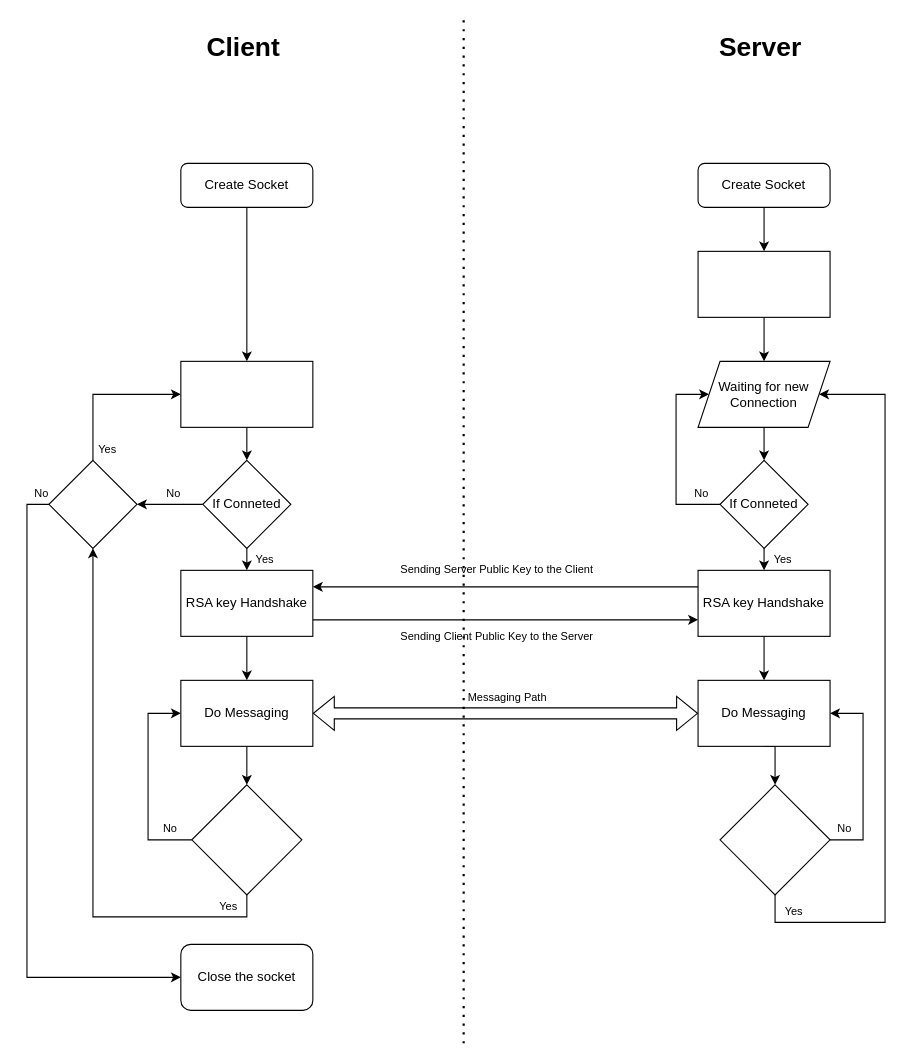
Some shapes in this 914 by 1064 pixel diagram are drawn without their labels. The shapes that lost their labels are listed below. From the top down, each one's box as (x1, y1, x2, y2) in pixels, then its label:
(697, 250, 830, 317): Binding the socket
(180, 360, 313, 427): Trying to connect to the server
(48, 459, 137, 548): If try again
(191, 784, 302, 895): If Server Disconnected
(719, 784, 830, 895): If Client Disconnected
